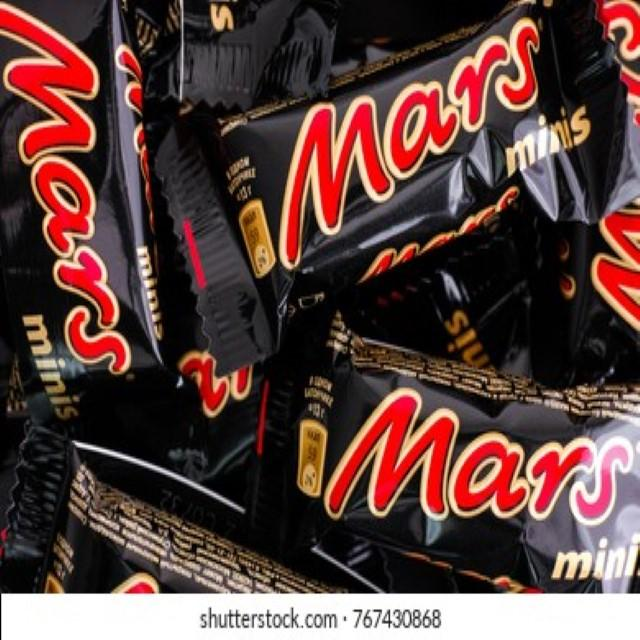mars_chocolate: (230, 25, 567, 305), (317, 343, 635, 582), (8, 19, 144, 368)
